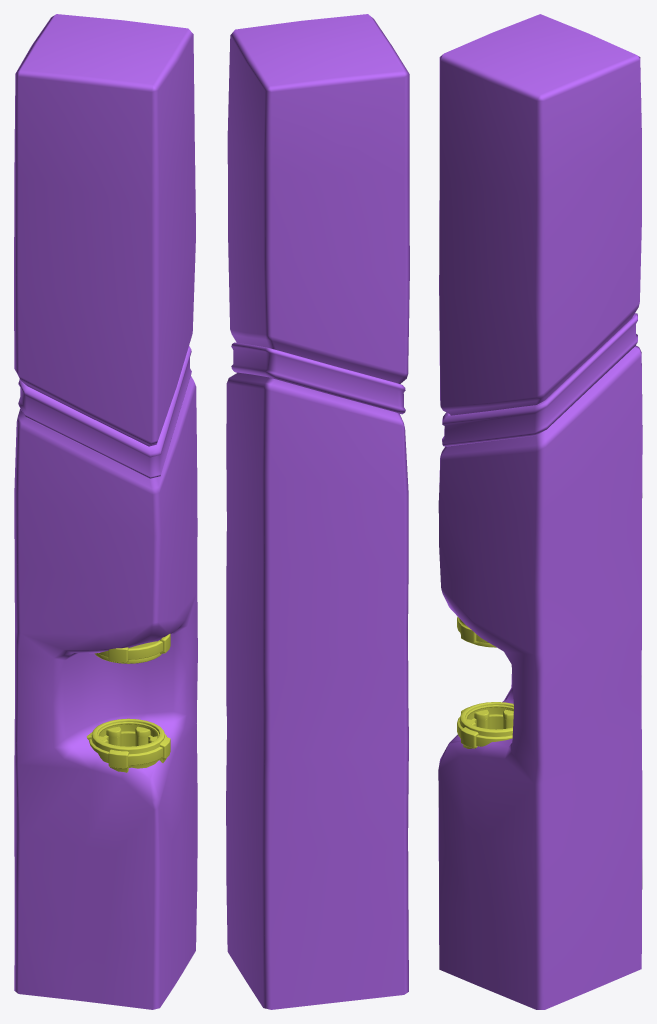
File: env_Chamber_RunePillar_05.FBX
The picture shows the model from 3 angles, left to right: view 1: azimuth 30°, elevation 25°; view 2: azimuth 150°, elevation 25°; view 3: azimuth 270°, elevation 25°; orthographic projection.
Visible parts, largest first — view 1: env_Chamber_RunePillar_05; view 2: env_Chamber_RunePillar_05; view 3: env_Chamber_RunePillar_05.
Boxes of the visible parts, box(x1,y1,x2,y2) form: env_Chamber_RunePillar_05: box(14, 14, 197, 1009); env_Chamber_RunePillar_05: box(226, 14, 409, 1009); env_Chamber_RunePillar_05: box(438, 14, 642, 1009).
Size of the model in its own units: 202 by 991 by 200.
